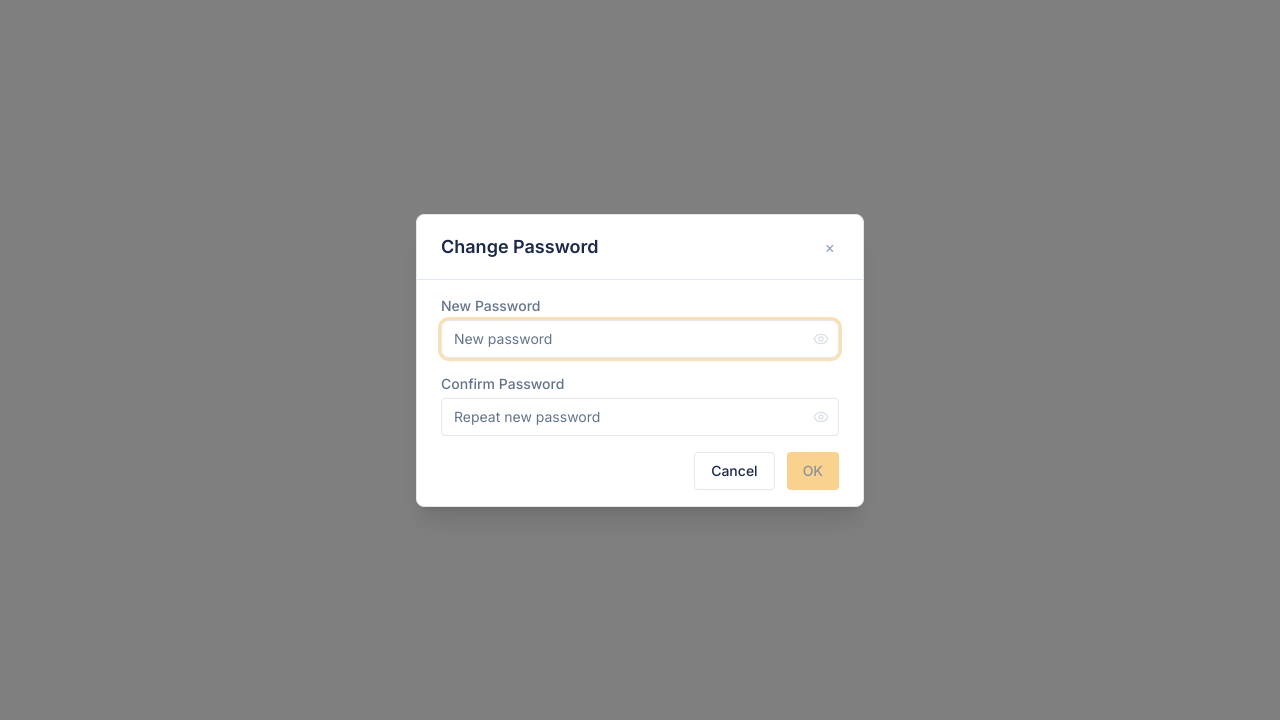
Test case: TopBarChangePasswordModal › renders two password fields with visibility toggles and OK/Cancel buttons
Check: the button named "show new password" is disabled, box [803,320,839,358]
In the password field labelled "New Password": (640, 338) [441,320,839,358], type "hunter2"
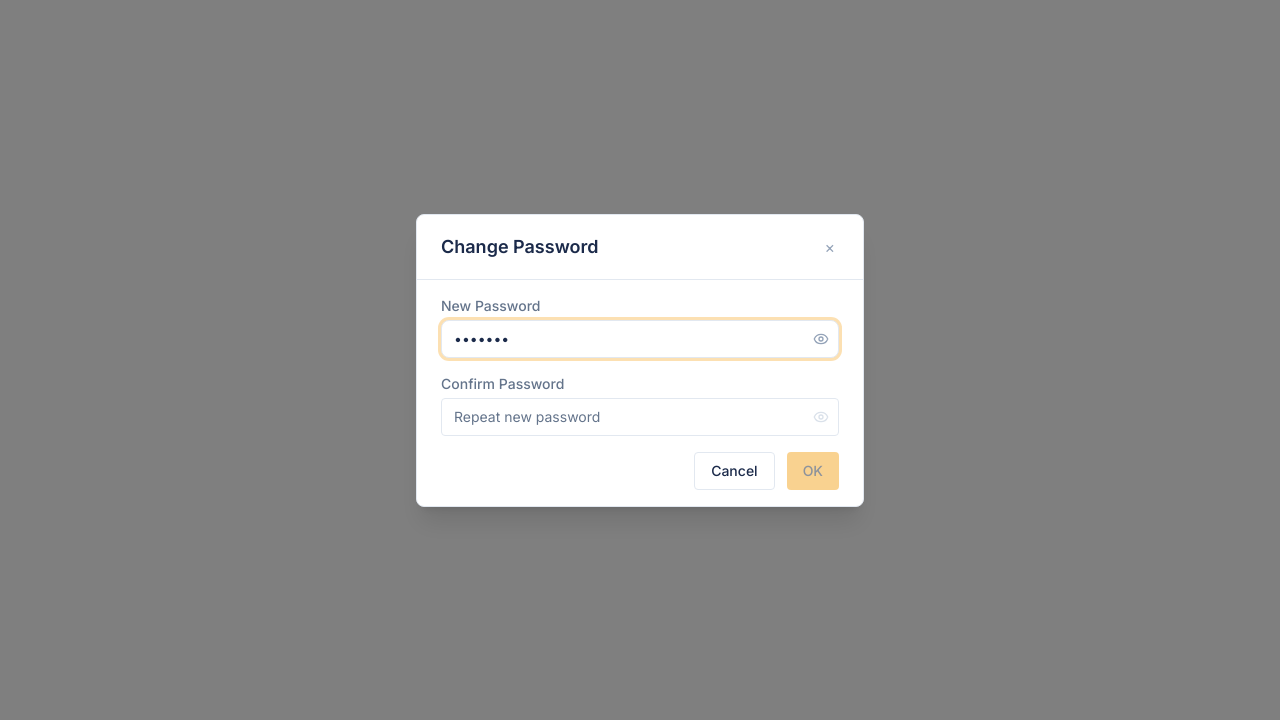
Check: the button named "show new password" is enabled
Click the button named "show new password": (821, 338) [803,320,839,358]
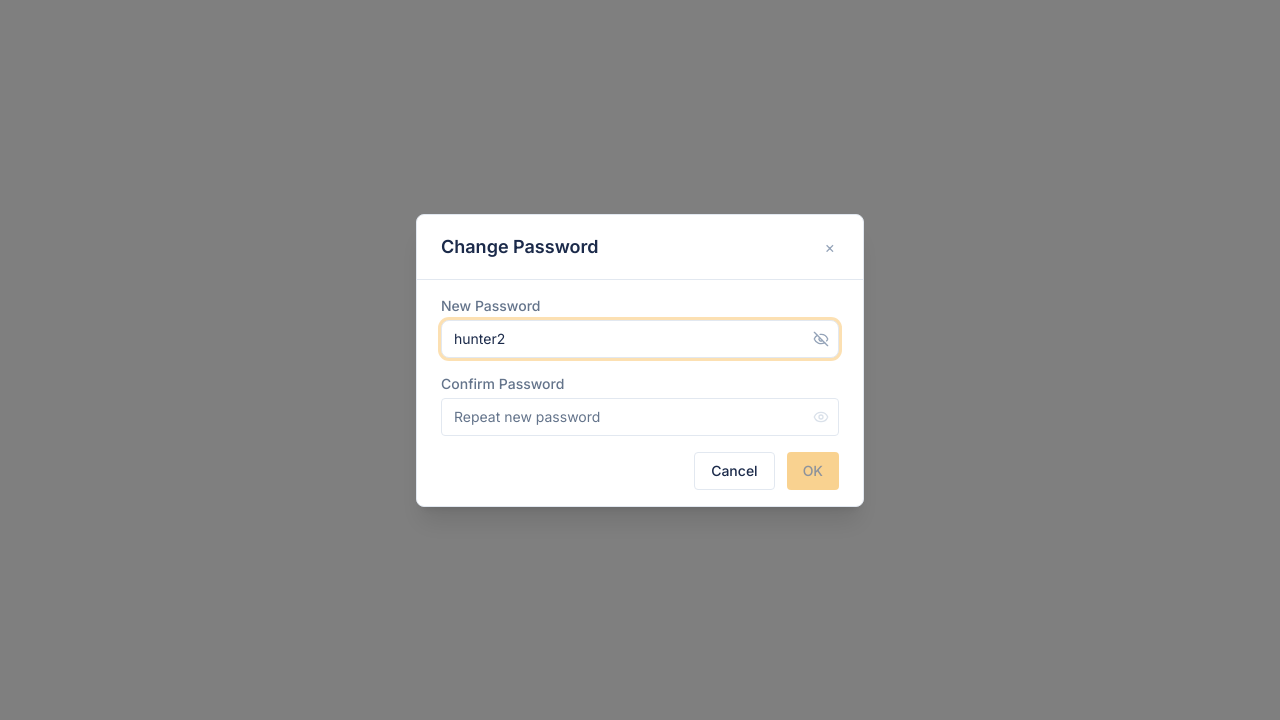
Check: the field labelled "New Password" shows its text, box [441,320,839,358]
// Toggling back hides it again.
Click the button named "hide new password": (821, 338) [803,320,839,358]
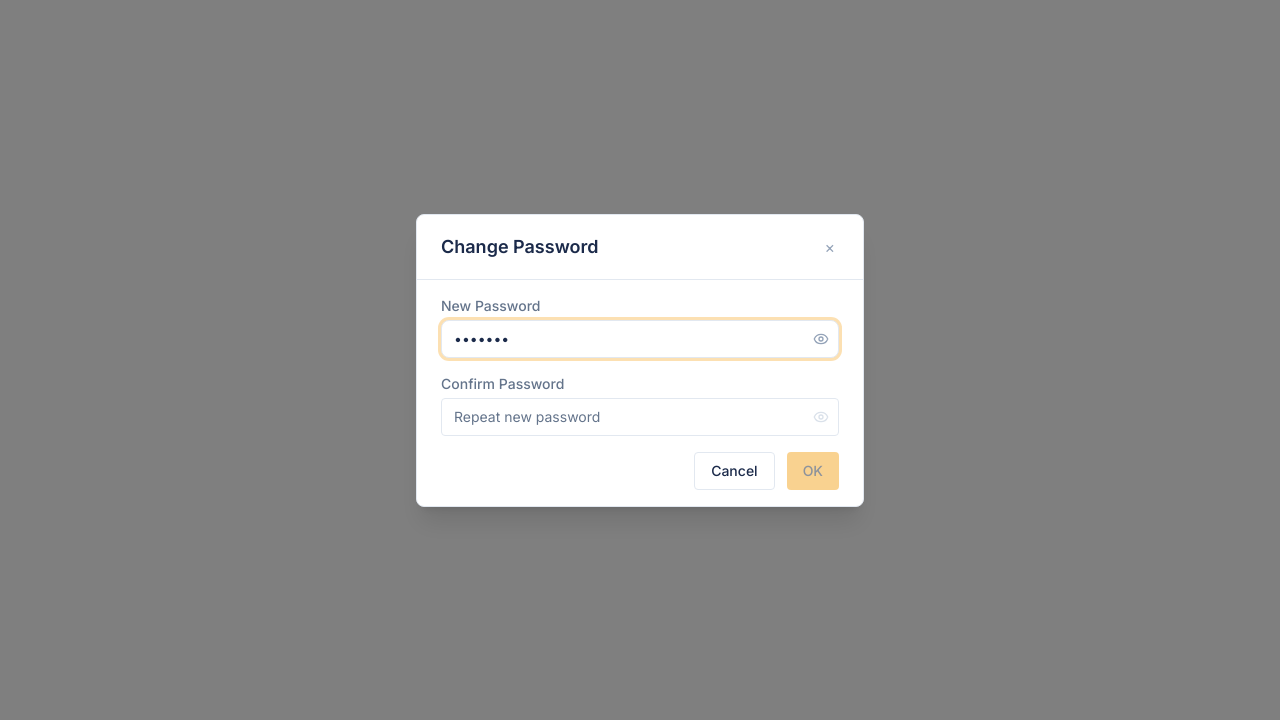
Check: the button "OK" is shown, box [787,452,839,490]
Check: the password field labelled "New Password" hides its text, box [441,320,839,358]
